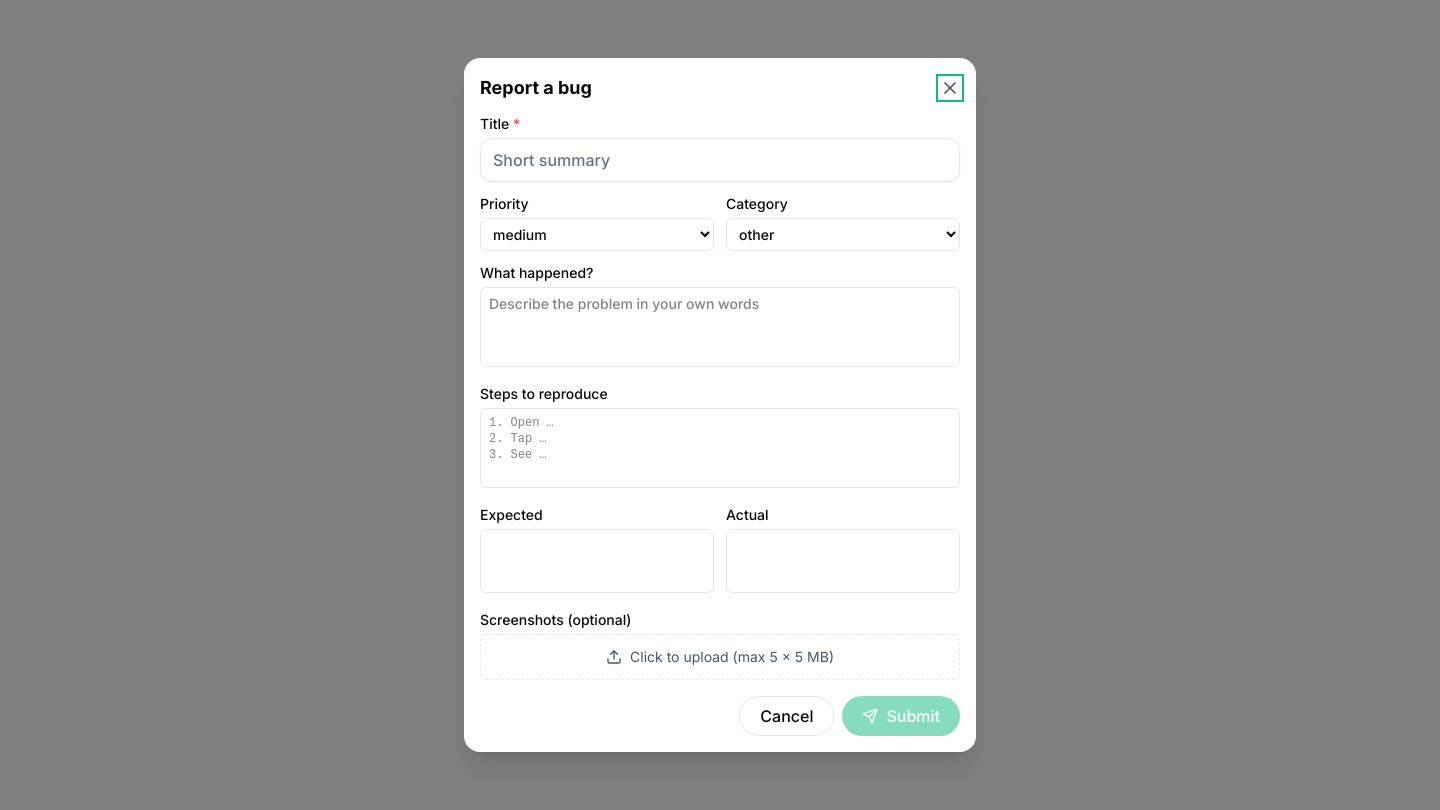
BugReportModal › surfaces the error message when submission throws
This screenshot has width=1440, height=810.
In the field with placeholder "Short summary": (720, 160) x1=480 y1=138 x2=960 y2=182, type "T"
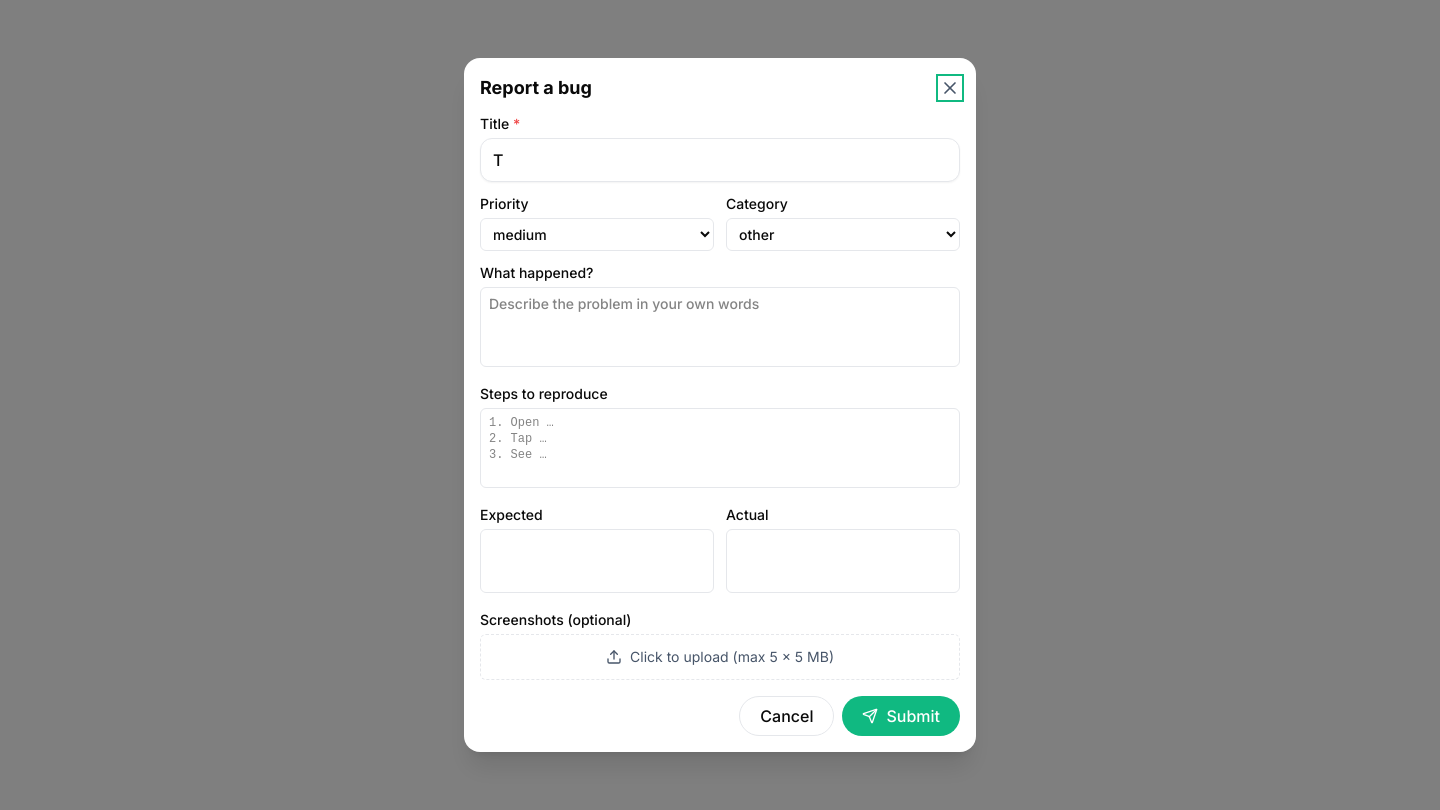
Click the button "Submit": (901, 716) x1=842 y1=696 x2=960 y2=736
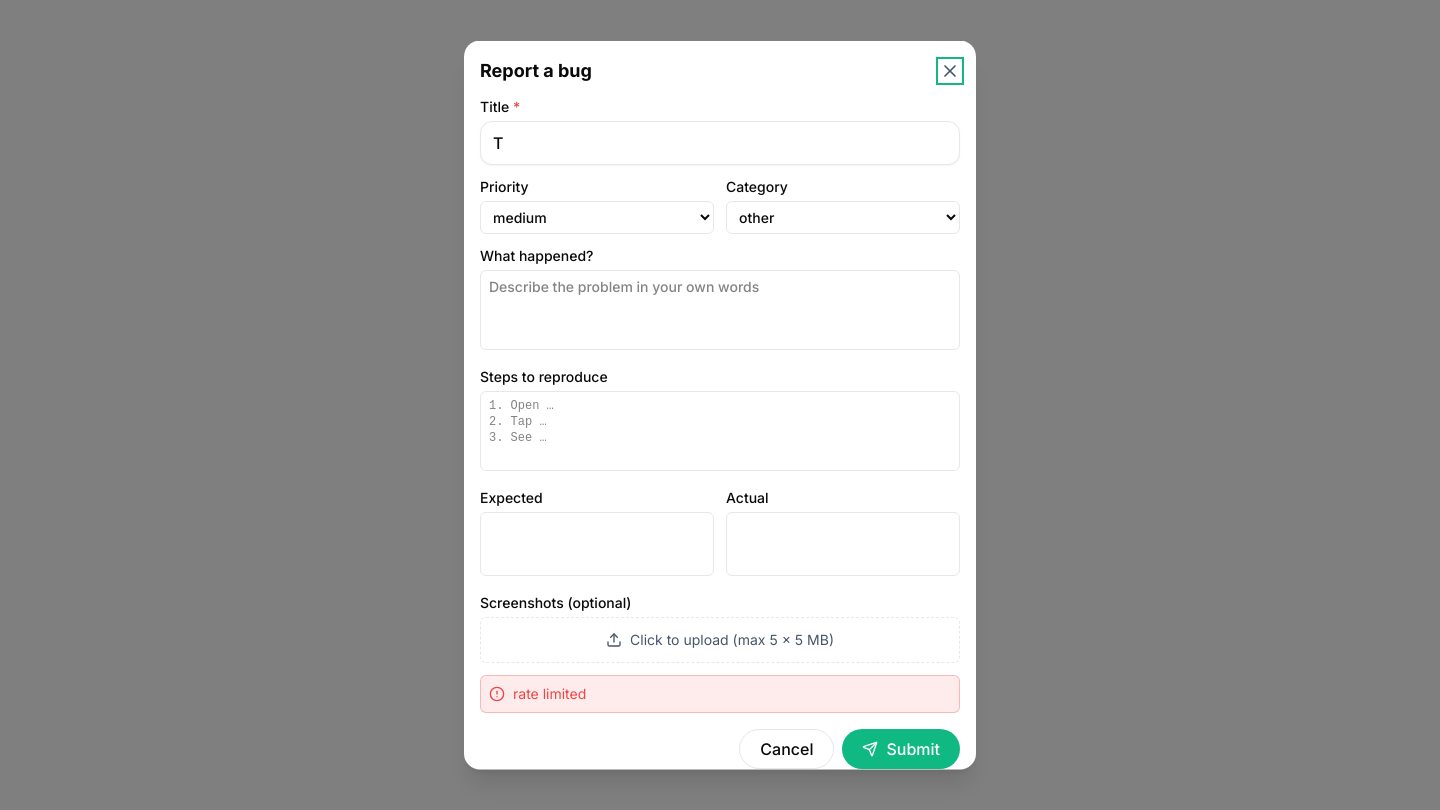
Check: the message "rate limited" is shown, box x1=480 y1=674 x2=960 y2=712
Check: the message reads "rate limited", box x1=513 y1=684 x2=586 y2=702
